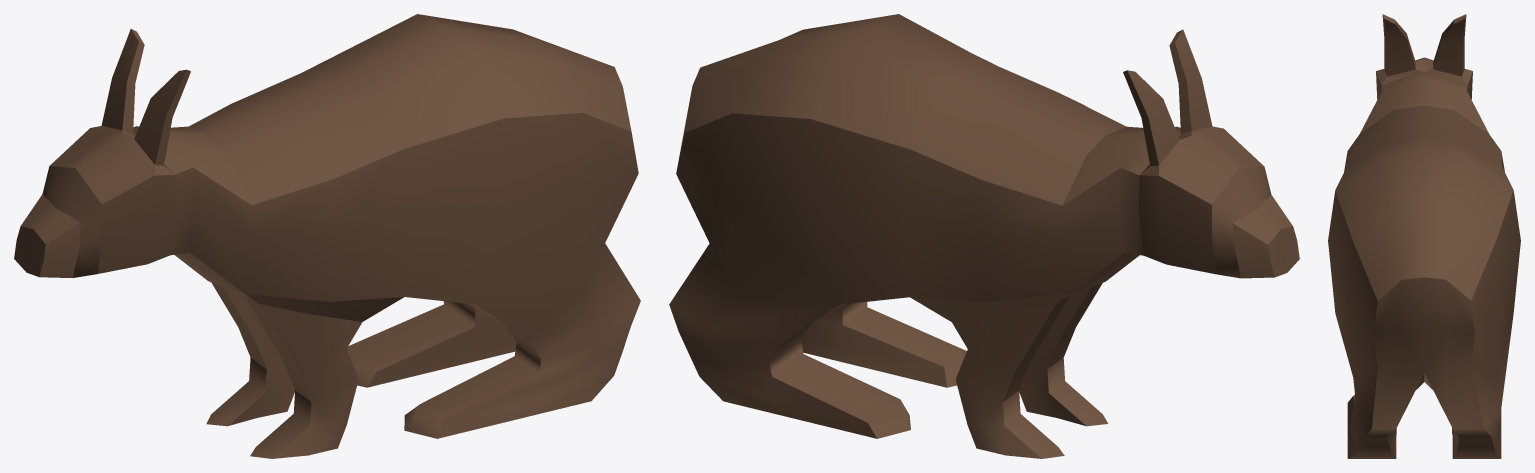
The model's file is Geo_Rabbit.fbx.
The picture shows the model from 3 angles, left to right: view 1: azimuth 30°, elevation 25°; view 2: azimuth 150°, elevation 25°; view 3: azimuth 270°, elevation 25°; orthographic projection. The views are drawn at different scales.
Parts seen in each view (by area): view 1: pCube2; view 2: pCube2; view 3: pCube2.
Boxes of the visible parts, x1,y1,x2,y2 form: pCube2: (14, 14, 640, 458); pCube2: (669, 14, 1299, 458); pCube2: (1328, 14, 1520, 458).
Size of the model in its own units: 40.94 by 27.02 by 15.47.
